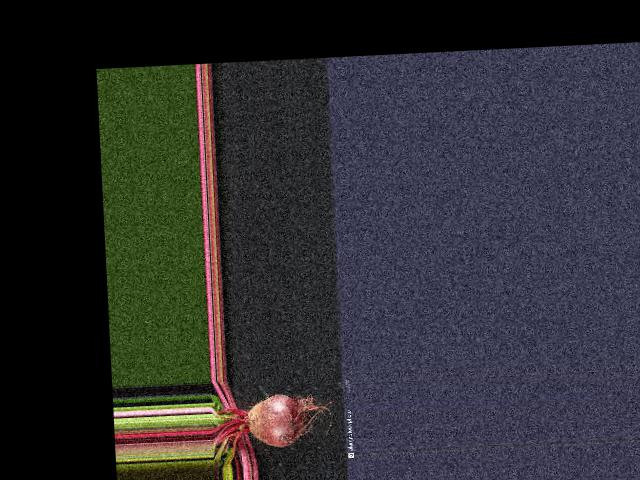beet: (210, 390, 339, 468)
